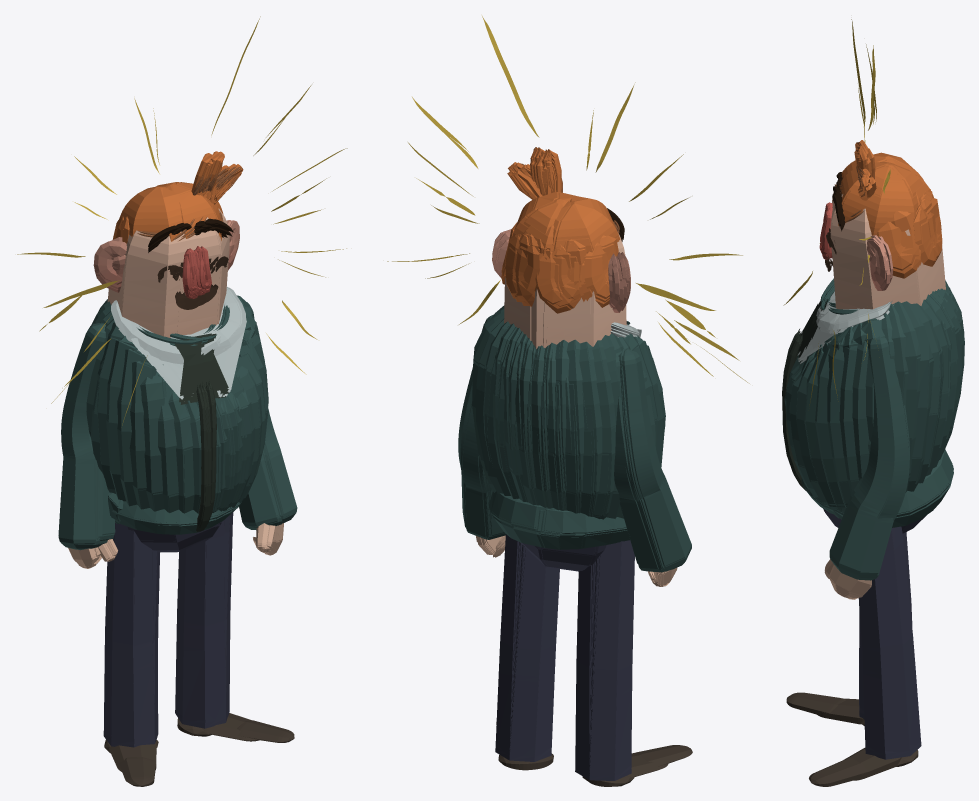
File: Dadidle_happy.fbx
The picture shows the model from 3 angles, left to right: view 1: azimuth 30°, elevation 25°; view 2: azimuth 150°, elevation 25°; view 3: azimuth 270°, elevation 25°; orthographic projection. The views are drawn at different scales.
Visible parts, largest first — view 1: Dad; view 2: Dad; view 3: Dad.
Part boxes in pixels (x1=…): Dad: x1=17, y1=16, x2=347, y2=786; Dad: x1=387, y1=16, x2=749, y2=786; Dad: x1=782, y1=19, x2=964, y2=786.
Size of the model in its own units: 1.75 by 3.43 by 0.7653.
